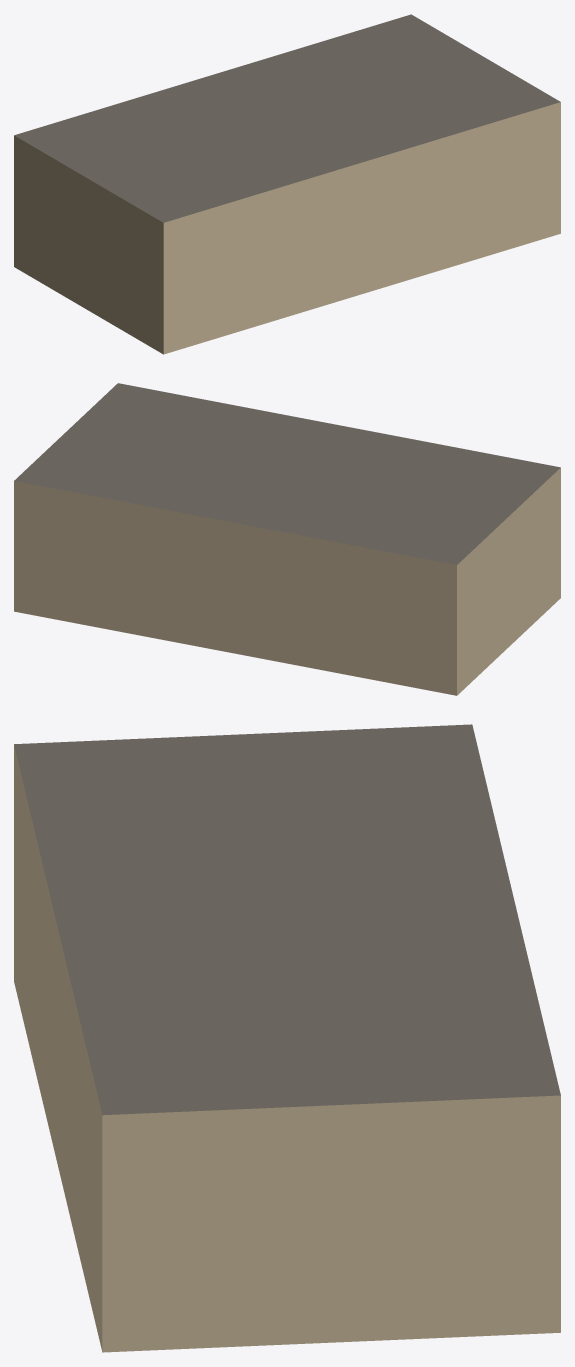
3 views of the same model, one above another, from view 1: azimuth 30°, elevation 25°; view 2: azimuth 150°, elevation 25°; view 3: azimuth 270°, elevation 25° (orthographic). The views are drawn at different scales.
Visible parts, largest first — view 1: HP-w1233759522; view 2: HP-w1233759522; view 3: HP-w1233759522.
Boxes of the visible parts, bbox=[...] form: HP-w1233759522: bbox=[14, 14, 560, 354]; HP-w1233759522: bbox=[14, 383, 560, 695]; HP-w1233759522: bbox=[14, 724, 560, 1352].
Bounding box in the file's own units: 46.61 × 13.2 × 27.57.
